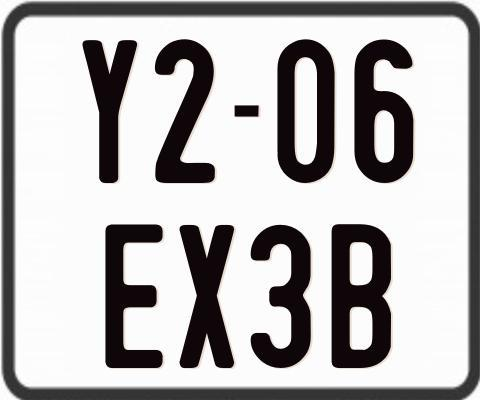0: (277, 36, 339, 180)
2: (153, 37, 217, 184)
3: (251, 225, 311, 372)
6: (352, 40, 415, 189)
B: (330, 223, 395, 368)
E: (104, 221, 167, 368)
X: (178, 224, 236, 369)
Y: (81, 37, 138, 185)
